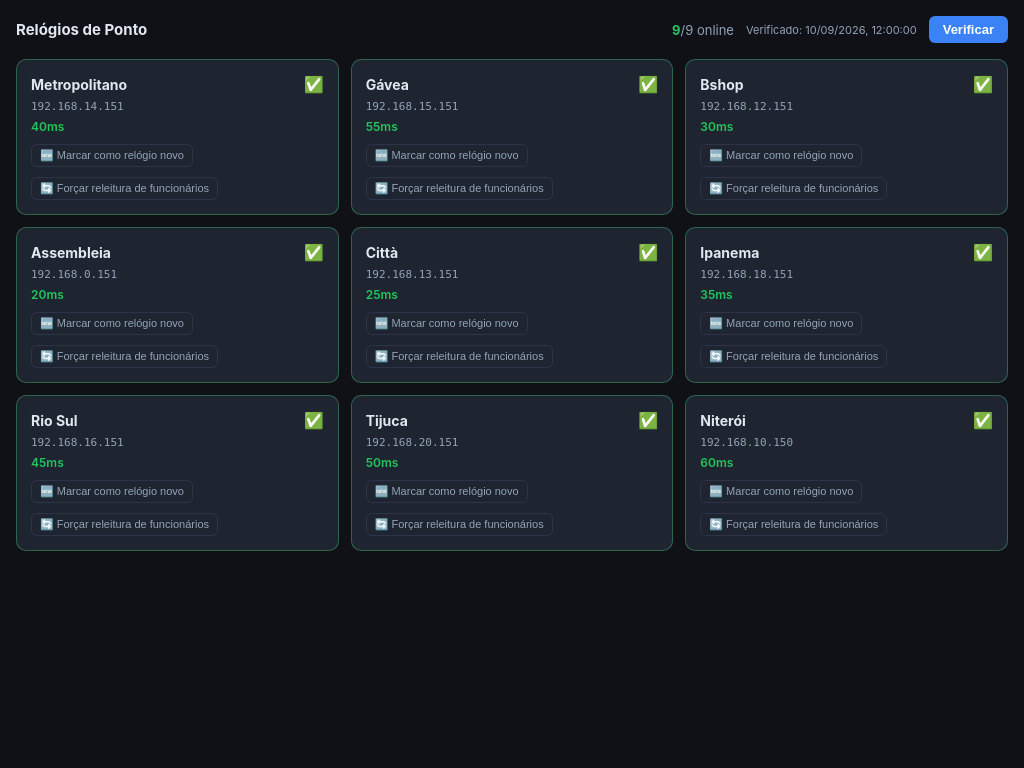
Test: ClockStatusGrid — botão "Forçar releitura de funcionários" › mostra "ainda processando" se getEmployees continuar _pending após esgotar as tentativas
The width and height of the screenshot is (1024, 768).
Step 1. Click the button "🔄 Forçar releitura de funcionários" below "40" → click(124, 188), box [31, 177, 218, 200]
Wait 150000 ms
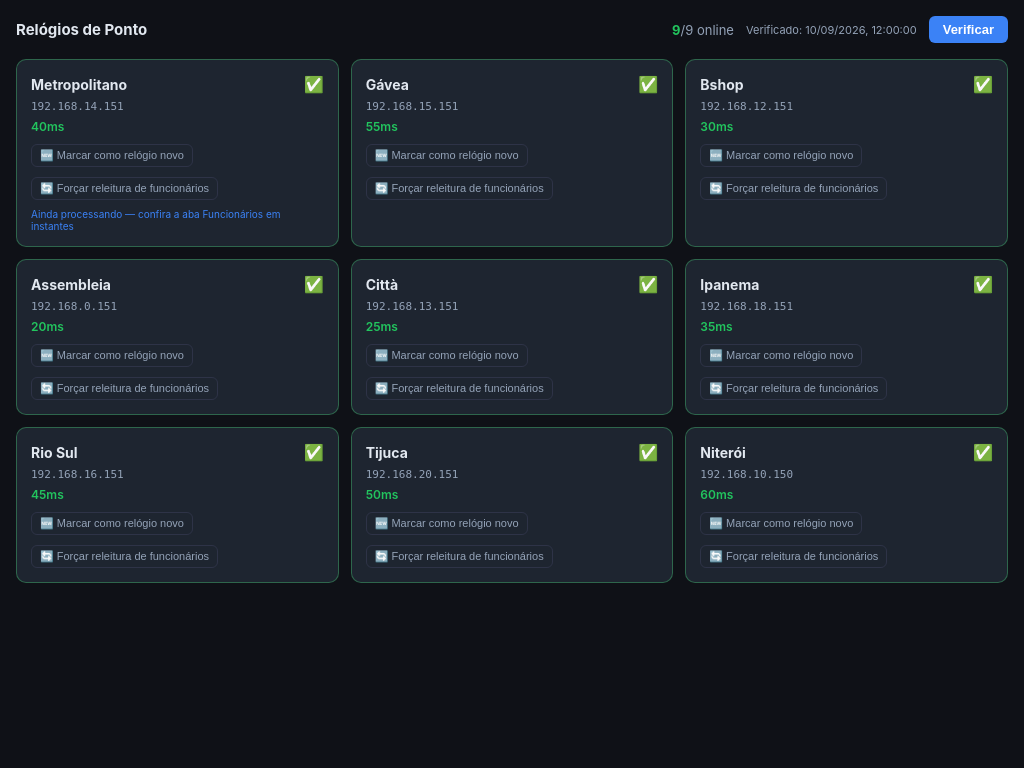
Now the text "Ainda processando — confira a aba Funcionários em instantes" is shown, box [31, 208, 324, 232]
